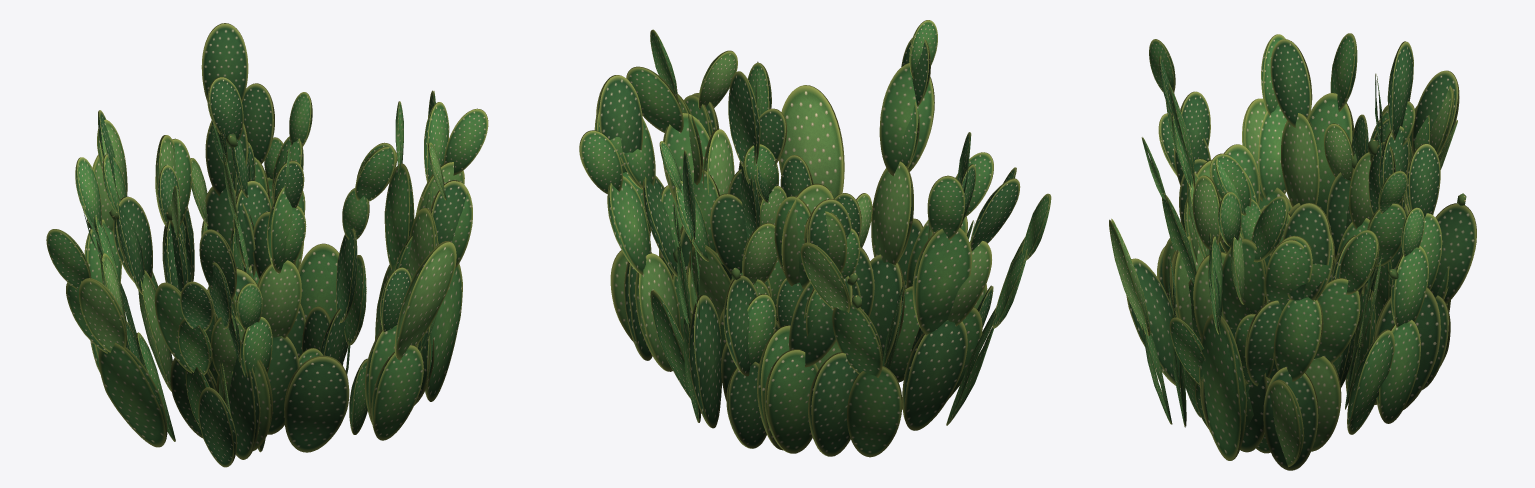
The model's file is mm6_deco_cac7.glb.
3 views of the same model, side by side, from view 1: azimuth 30°, elevation 25°; view 2: azimuth 150°, elevation 25°; view 3: azimuth 270°, elevation 25° (orthographic). The views are drawn at different scales.
Visible parts, largest first — view 1: Cactus; view 2: Cactus; view 3: Cactus.
Boxes of the visible parts, box(x1,y1,x2,y2) form: Cactus: box(46, 23, 488, 467); Cactus: box(579, 20, 1051, 457); Cactus: box(1109, 33, 1476, 470).
Size of the model in its own units: 2.29 by 1.72 by 1.84.
1 material, 1 textured.
